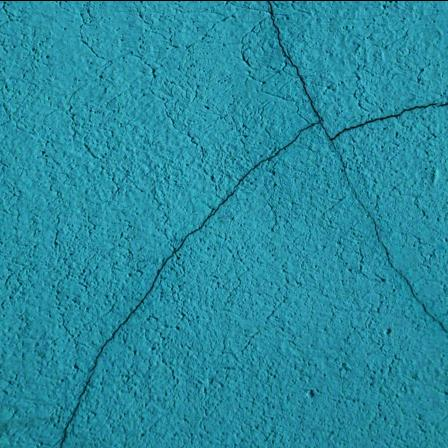crack: (24, 0, 448, 448)
